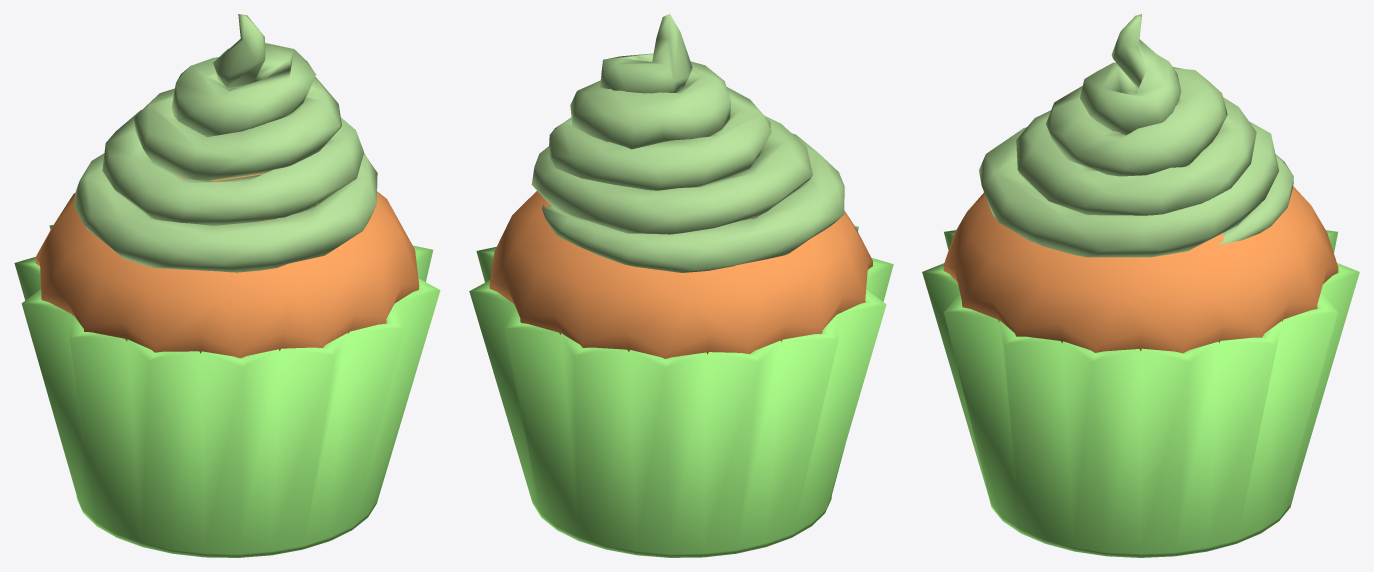
The model's file is Cupcake-2.fbx.
3 renders of one model, left to right at view 1: azimuth 30°, elevation 25°; view 2: azimuth 150°, elevation 25°; view 3: azimuth 270°, elevation 25°, orthographic.
Parts seen in each view (by area): view 1: Cupcake-2; view 2: Cupcake-2; view 3: Cupcake-2.
Boxes of the visible parts, <box> form: Cupcake-2: <box>14,14,440,557</box>; Cupcake-2: <box>469,14,893,557</box>; Cupcake-2: <box>922,14,1359,557</box>.
Size of the model in its own units: 36.82 by 46.14 by 37.76.
